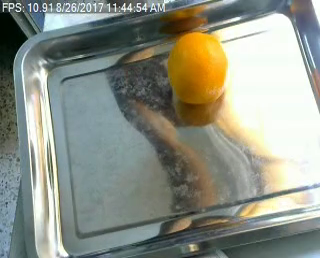Orange: (165, 30, 227, 104)
